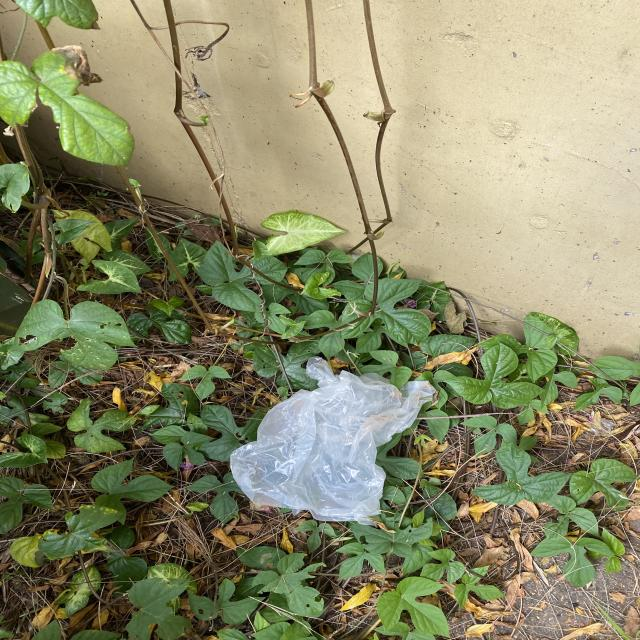bag: (229, 356, 437, 522)
